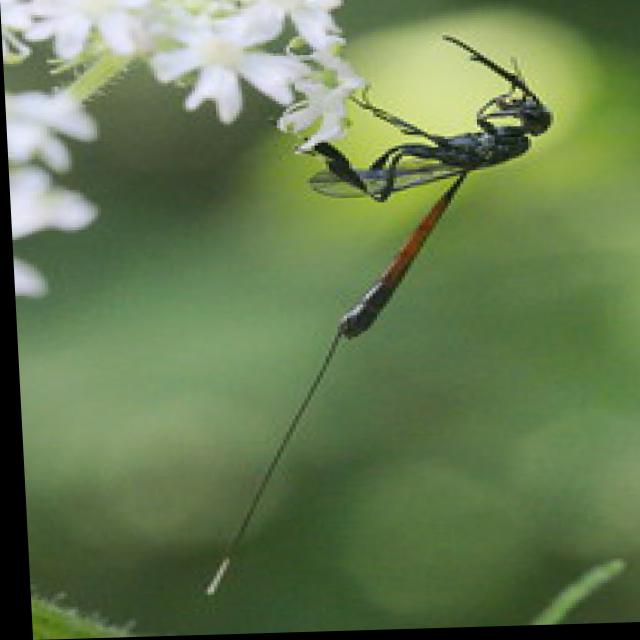Guepe: (265, 11, 584, 336)
